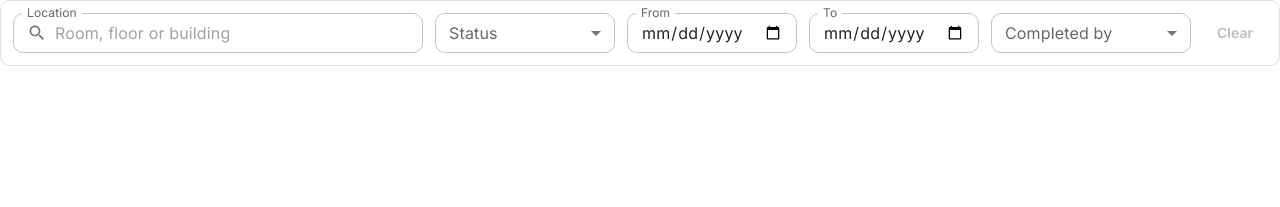
ReportFilters › limits the status list to the statuses it is given
Step 1. Click the dropdown named "status" next to "Status" → point(525, 33), box [435, 13, 615, 53]
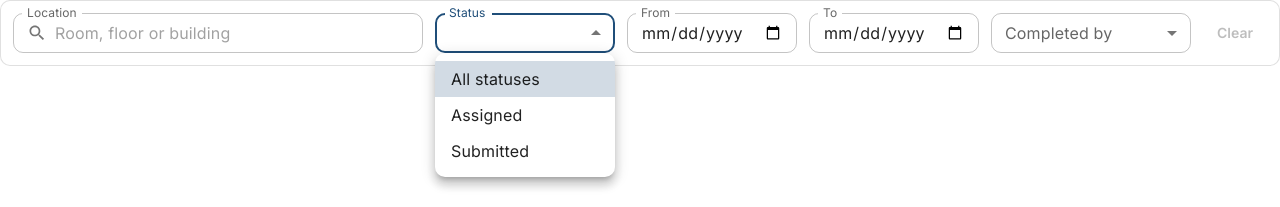
Expected: the options read "All statuses", "Assigned", "Submitted", in this order, [435, 61, 615, 97]; [451, 105, 522, 125]; [451, 141, 529, 161]
